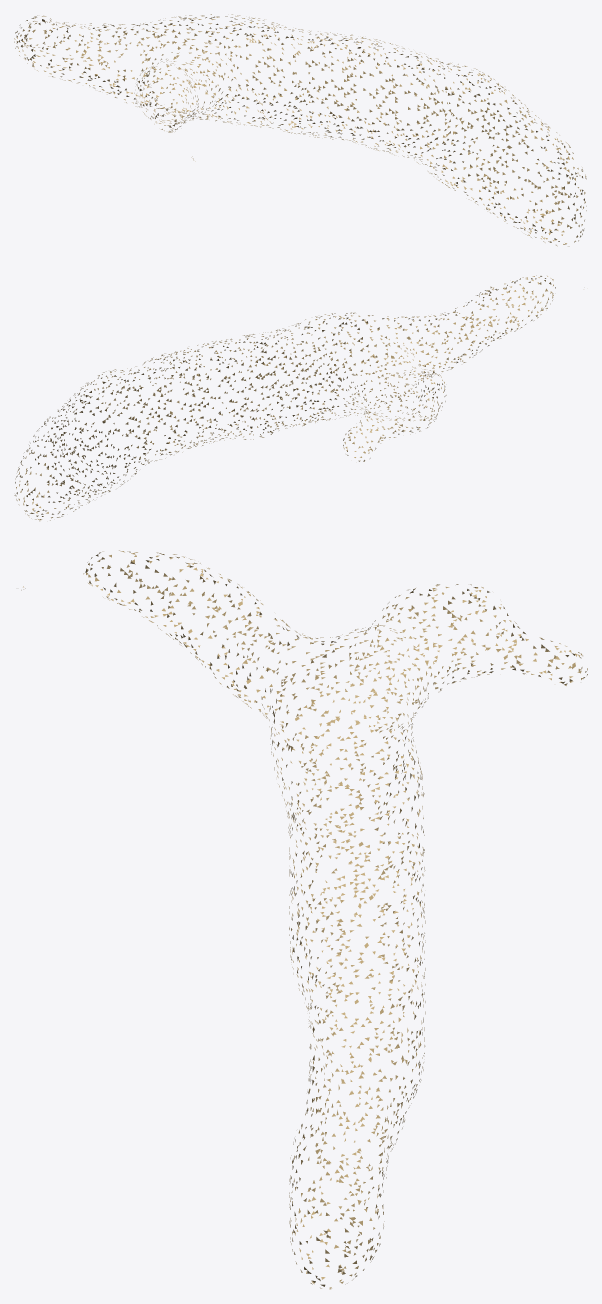
Rendered from morph_007.glb.
3 renders of one model, top to bottom at view 1: azimuth 30°, elevation 25°; view 2: azimuth 150°, elevation 25°; view 3: azimuth 270°, elevation 25°, orthographic. The views are drawn at different scales.
Bounding box in the file's own units: 119 × 73.75 × 88.06.
